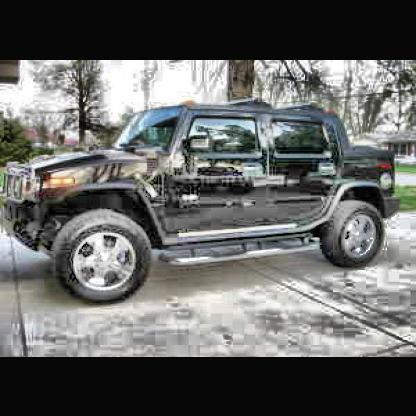HUMMER H2 SUT Crew Cab 2009: (7, 97, 405, 306)
